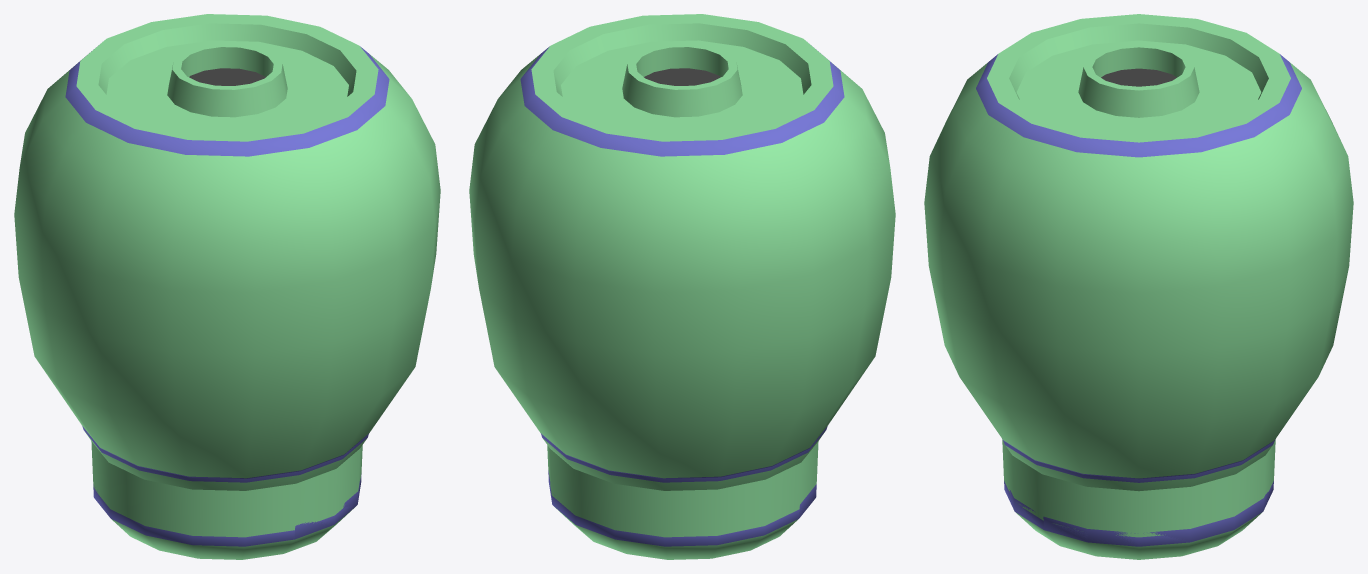
Rendered from 5Bodys.fbx.
The picture shows the model from 3 angles, left to right: view 1: azimuth 30°, elevation 25°; view 2: azimuth 150°, elevation 25°; view 3: azimuth 270°, elevation 25°; orthographic projection.
Parts seen in each view (by area): view 1: Body_M5, Body_M1, Body_M3, Body_M2; view 2: Body_M5, Body_M1, Body_M3, Body_M2; view 3: Body_M5, Body_M1, Body_M2, Body_M3.
Part boxes in pixels (<box>): Body_M5: <box>14,45,440,478</box>; Body_M1: <box>76,14,378,559</box>; Body_M3: <box>82,426,368,490</box>; Body_M2: <box>91,443,361,546</box>; Body_M5: <box>469,45,895,478</box>; Body_M1: <box>531,14,833,559</box>; Body_M3: <box>541,426,827,490</box>; Body_M2: <box>547,441,818,546</box>; Body_M5: <box>924,54,1353,479</box>; Body_M1: <box>987,14,1290,559</box>; Body_M2: <box>1005,451,1272,546</box>; Body_M3: <box>1002,439,1275,491</box>.
Bounding box in the file's own units: 2.82 × 3.23 × 2.82.
